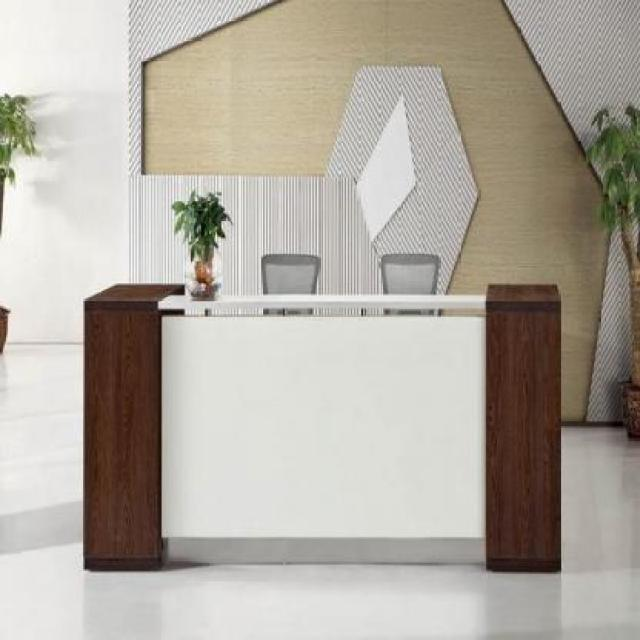frontdesk: (74, 262, 575, 580)
